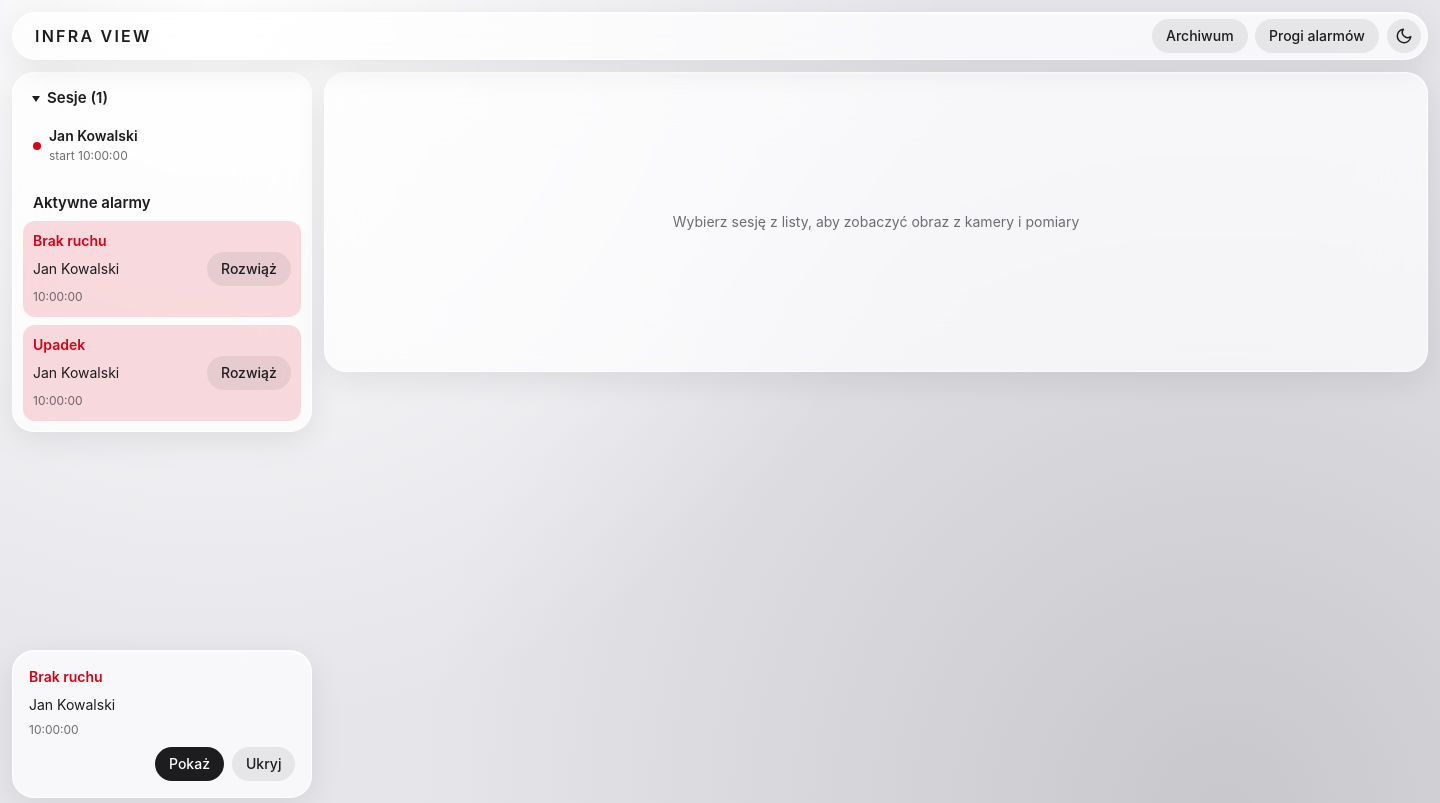
Test case: nowy alarm pojawia się jako popup, który otwiera sesję strażaka
The image size is (1440, 803).
Check: the text "Upadek" is shown, box [33, 336, 85, 353]
Click the button "Pokaż".
click(189, 764)  # box [155, 747, 224, 781]
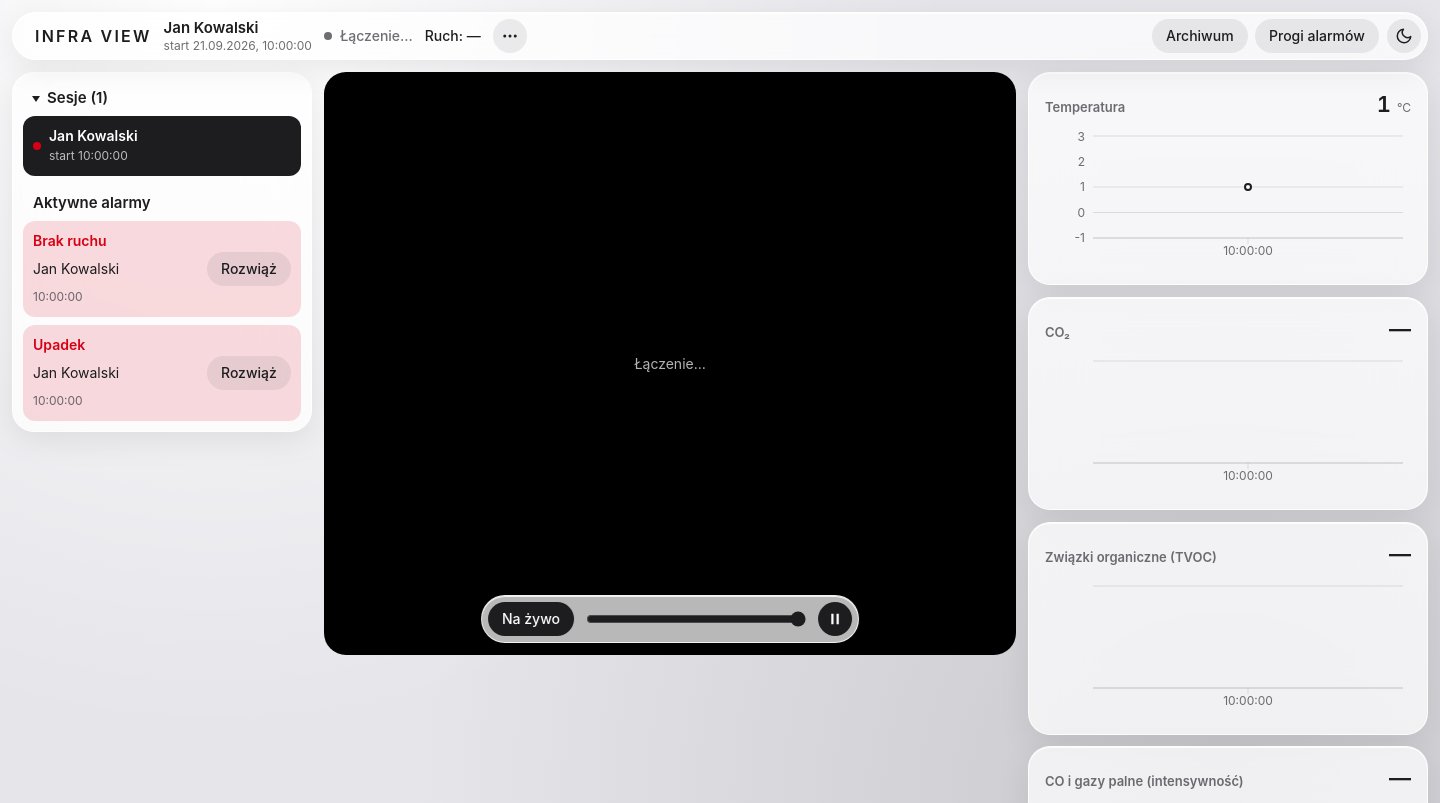
Check: the heading "Jan Kowalski" is shown, box [164, 18, 258, 37]
Check: the message "Brak ruchu Jan Kowalski 10:00:00 Pokaż Ukryj" is gone
